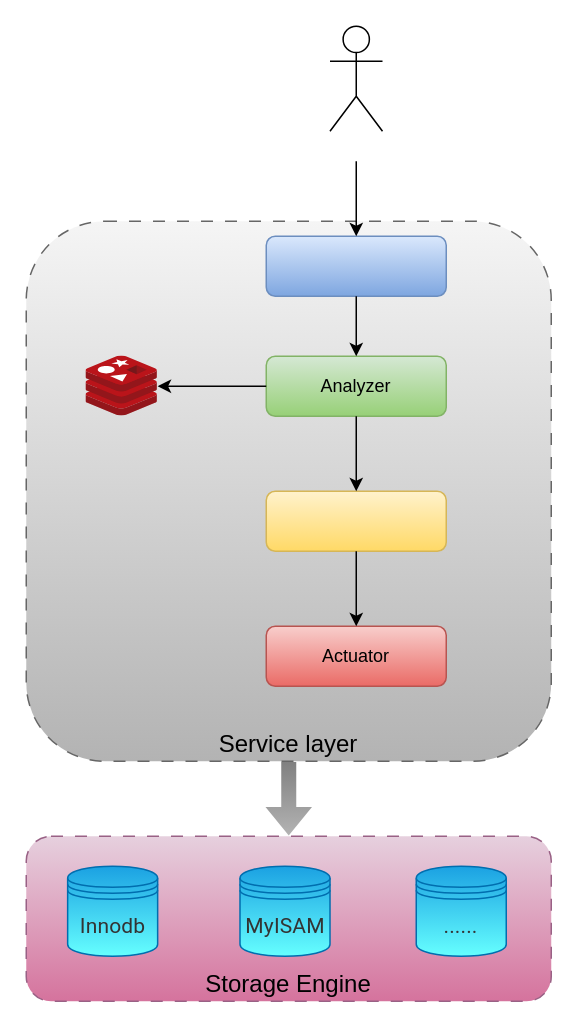
This 578x1028 diagram has some shape labels left out. Here are the shapes that lost their labels. From the top down, the centre of each, then its label:
[355,78]: Client
[355,265]: Connector
[121,386]: Cache
[355,520]: Optimizer
